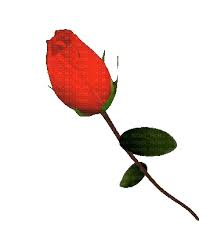lale: (32, 23, 165, 152)
